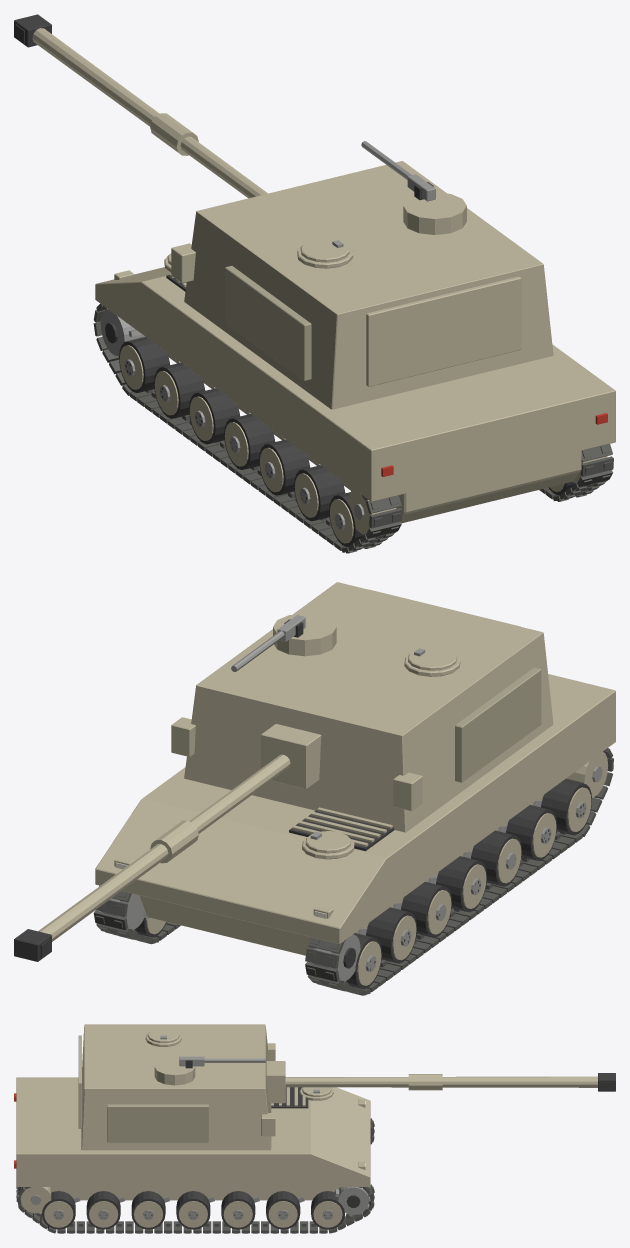
File: usa_spg_a6.glb
3 renders of one model, top to bottom at view 1: azimuth 30°, elevation 25°; view 2: azimuth 150°, elevation 25°; view 3: azimuth 270°, elevation 25°, orthographic. The views are drawn at different scales.
Visible parts, largest first — view 1: body, turret, barrel; view 2: body, turret, barrel; view 3: body, turret, barrel.
Boxes of the visible parts, x1,y1,x2,y2 form: body: [93, 253, 615, 553]; turret: [171, 141, 553, 409]; barrel: [14, 14, 267, 198]; body: [93, 674, 615, 995]; turret: [171, 582, 553, 832]; barrel: [14, 724, 321, 961]; body: [14, 1077, 374, 1233]; turret: [78, 1024, 275, 1150]; barrel: [266, 1061, 615, 1103].
Bounding box in the file's own units: 3.2 × 3.09 × 10.62.
